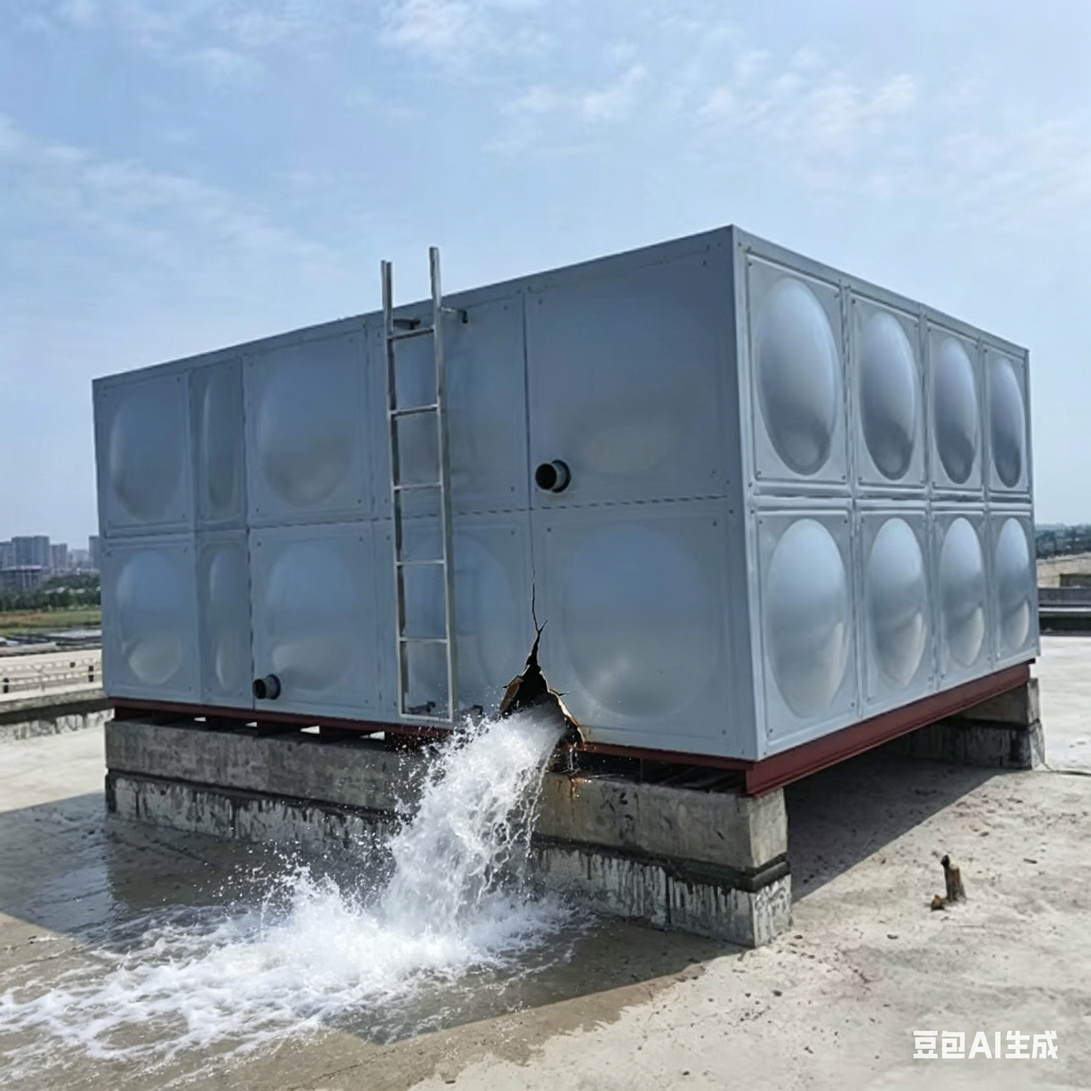Leakage: (371, 720, 616, 1009), (18, 896, 369, 1089)
